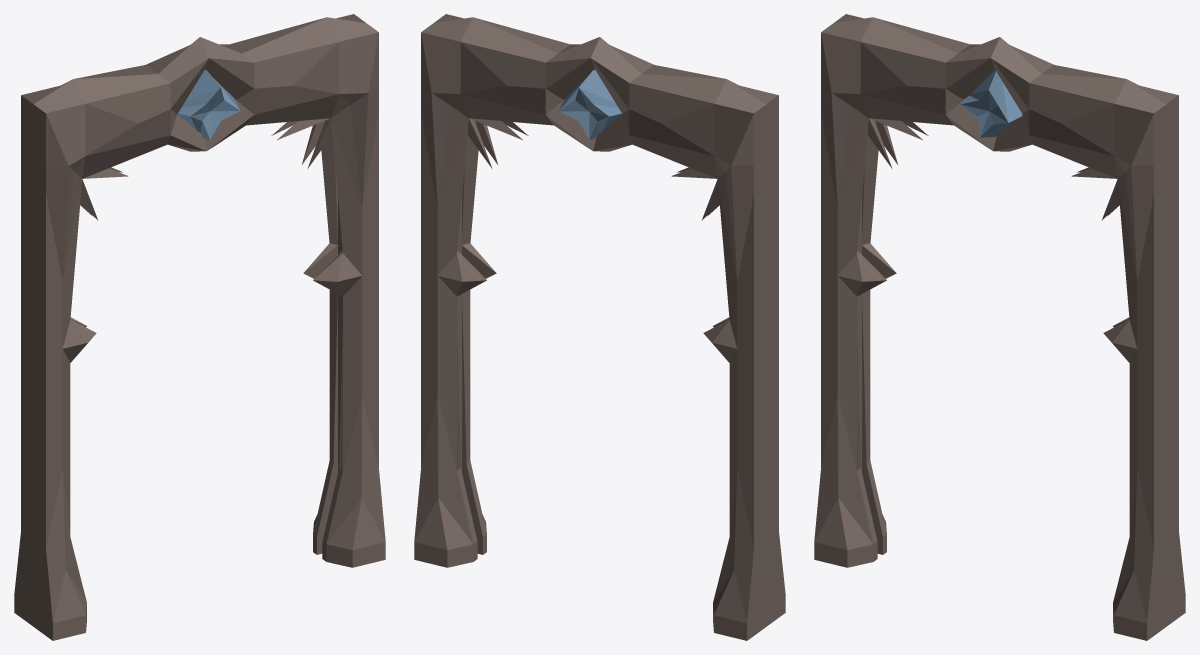
The model's file is door02.fbx.
3 renders of one model, left to right at view 1: azimuth 30°, elevation 25°; view 2: azimuth 150°, elevation 25°; view 3: azimuth 330°, elevation 25°, orthographic.
Parts seen in each view (by area): view 1: frame, crystal; view 2: frame, crystal; view 3: frame, crystal.
Boxes of the visible parts, left/top/right/bottom form: frame: left=14, top=14, right=385, bottom=640; crystal: left=177, top=70, right=240, bottom=139; frame: left=414, top=14, right=785, bottom=640; crystal: left=559, top=70, right=622, bottom=139; frame: left=814, top=14, right=1185, bottom=640; crystal: left=960, top=70, right=1022, bottom=137.
Size of the model in its own units: 200 by 315 by 40.15.
